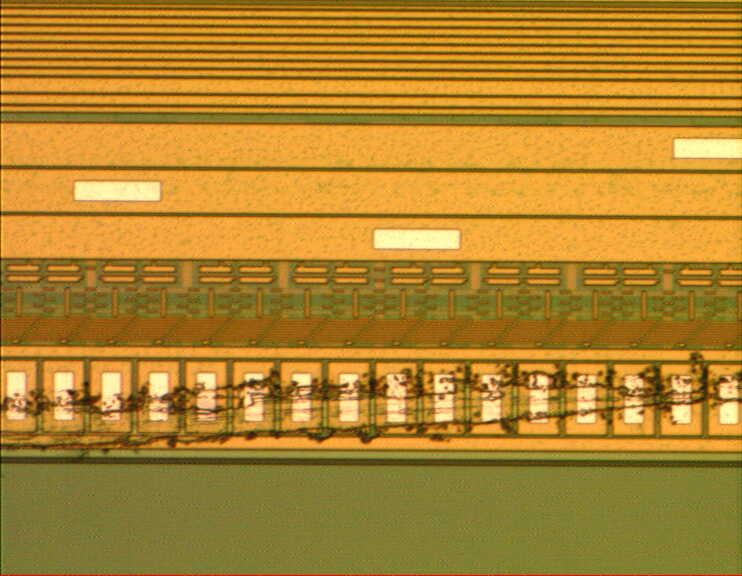SCRATCH: (1, 352, 742, 466)
